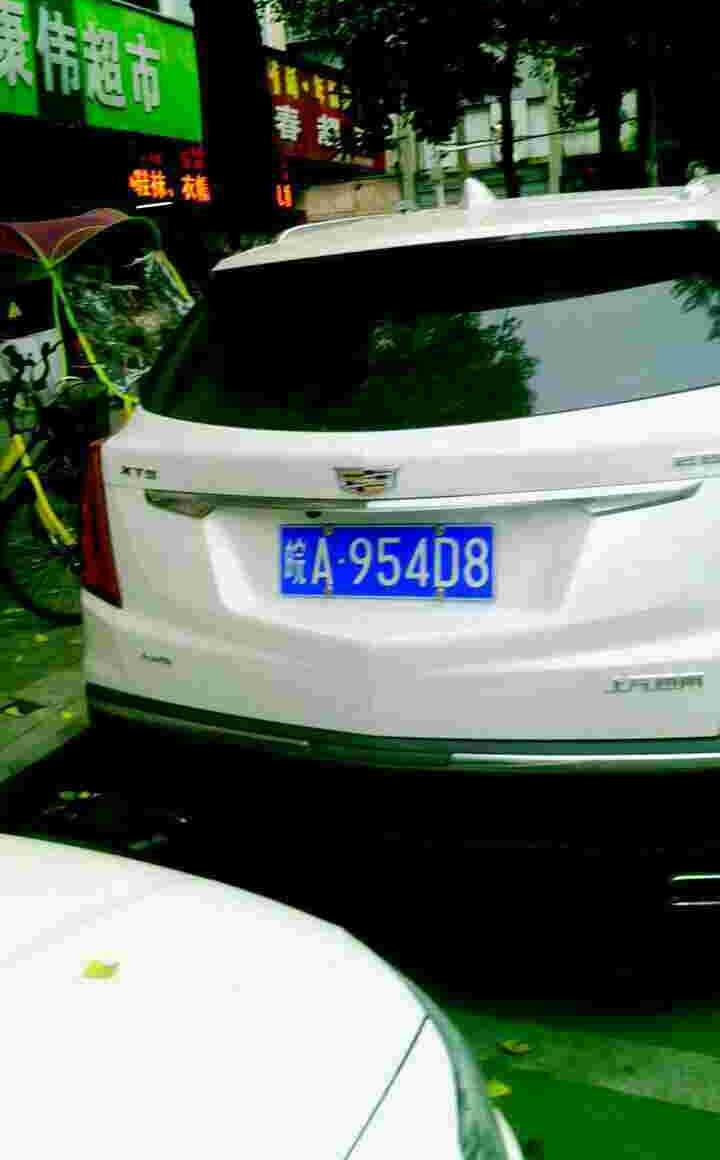license_plate: (283, 520, 492, 605)
